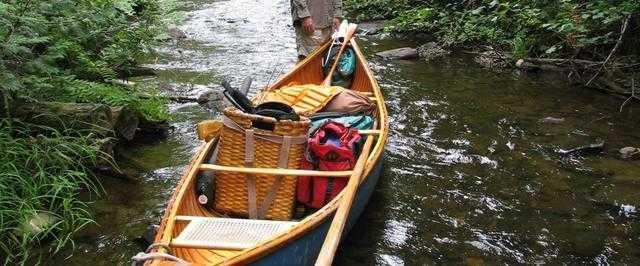kayak: (133, 18, 388, 263), (9, 100, 140, 178)
